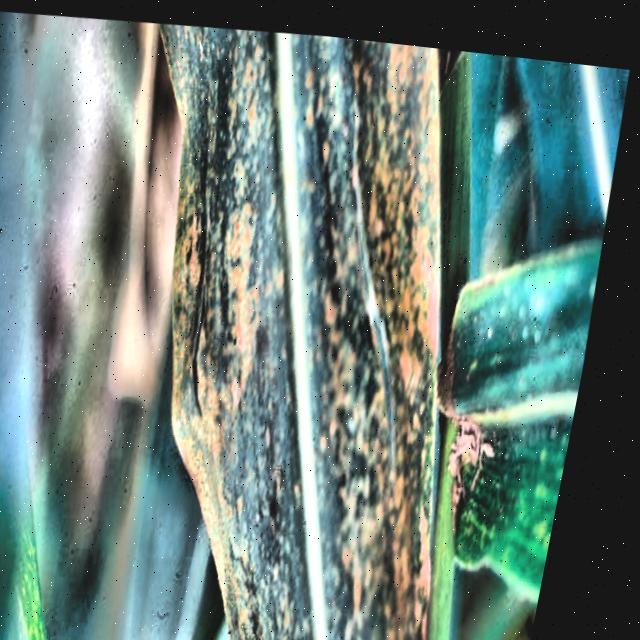common_rust: (87, 23, 540, 640)
